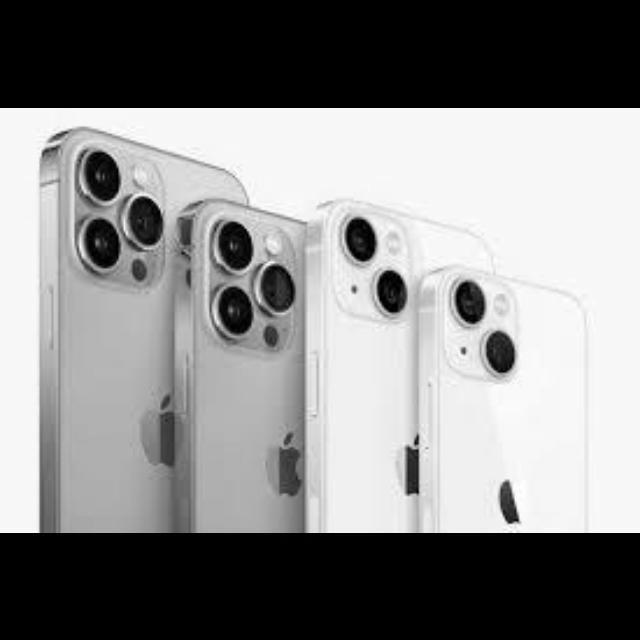fake: (33, 122, 322, 534), (303, 189, 593, 537)
